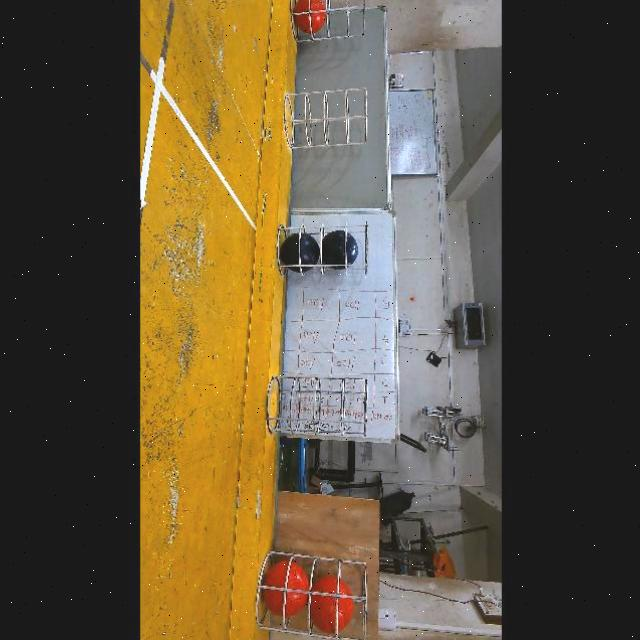P: (279, 233, 320, 273), (321, 230, 358, 269)
R: (260, 561, 305, 618), (308, 576, 352, 634), (294, 0, 327, 34)
S: (256, 560, 362, 640), (262, 379, 372, 435), (277, 220, 369, 278), (284, 90, 368, 150), (290, 0, 364, 46)
